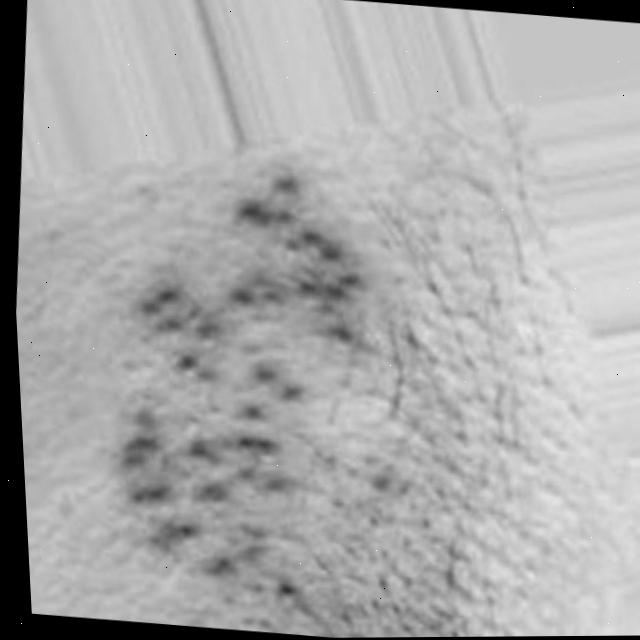Shingles: (95, 157, 382, 598)
